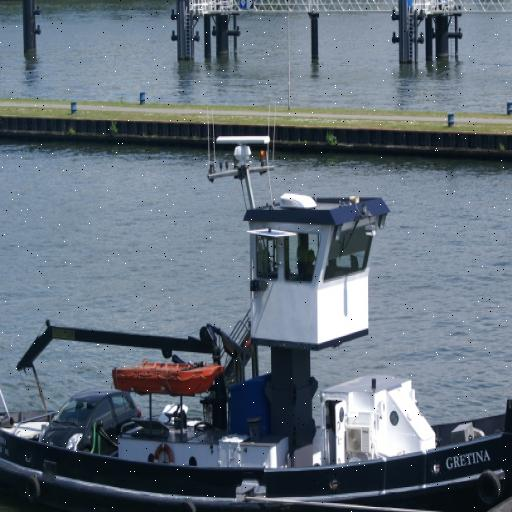tugboat: (1, 132, 512, 512)
